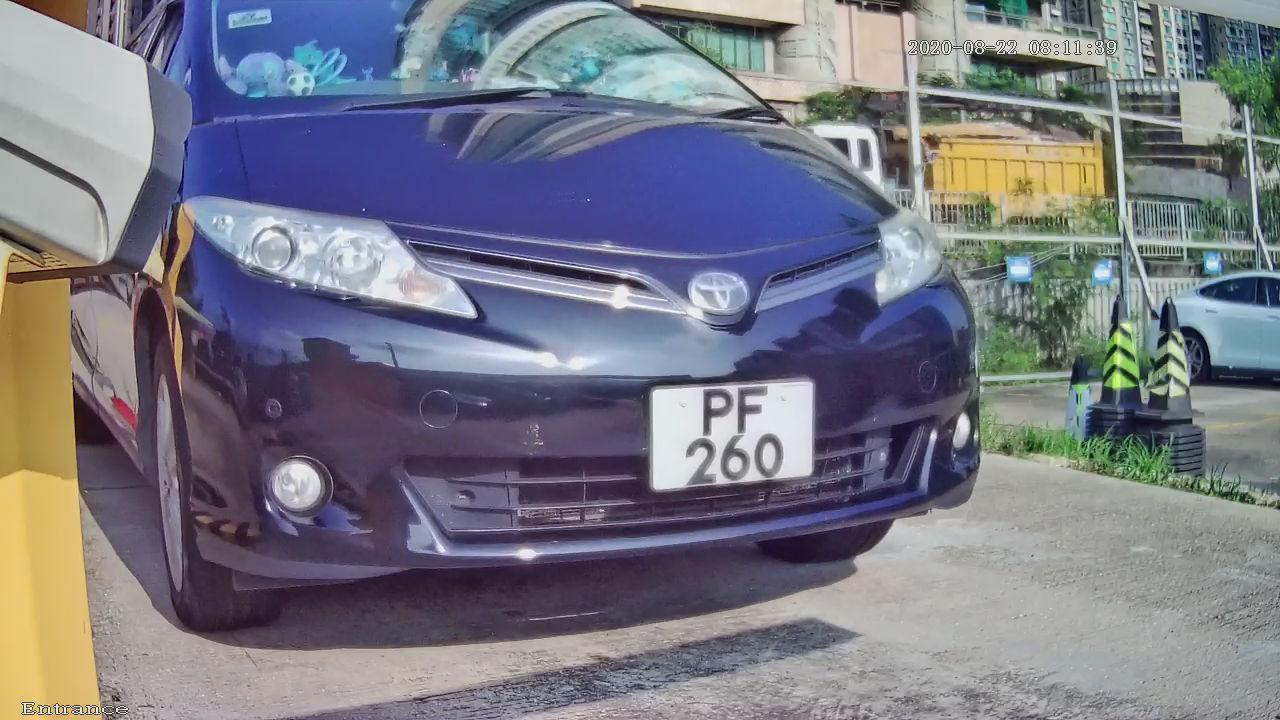Car: (69, 10, 1058, 659)
License Plate: (635, 361, 841, 515)
